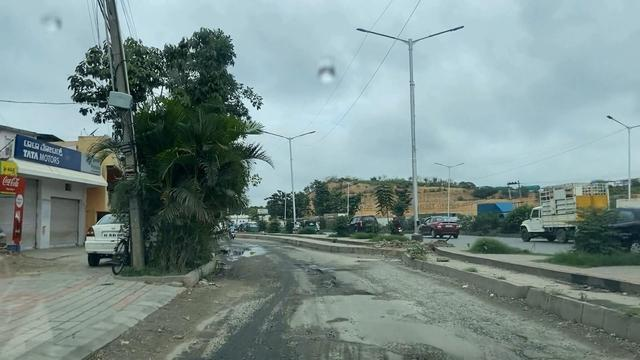RoadDamages: (284, 327, 437, 360), (474, 306, 560, 360), (284, 251, 360, 296), (403, 291, 471, 325)
